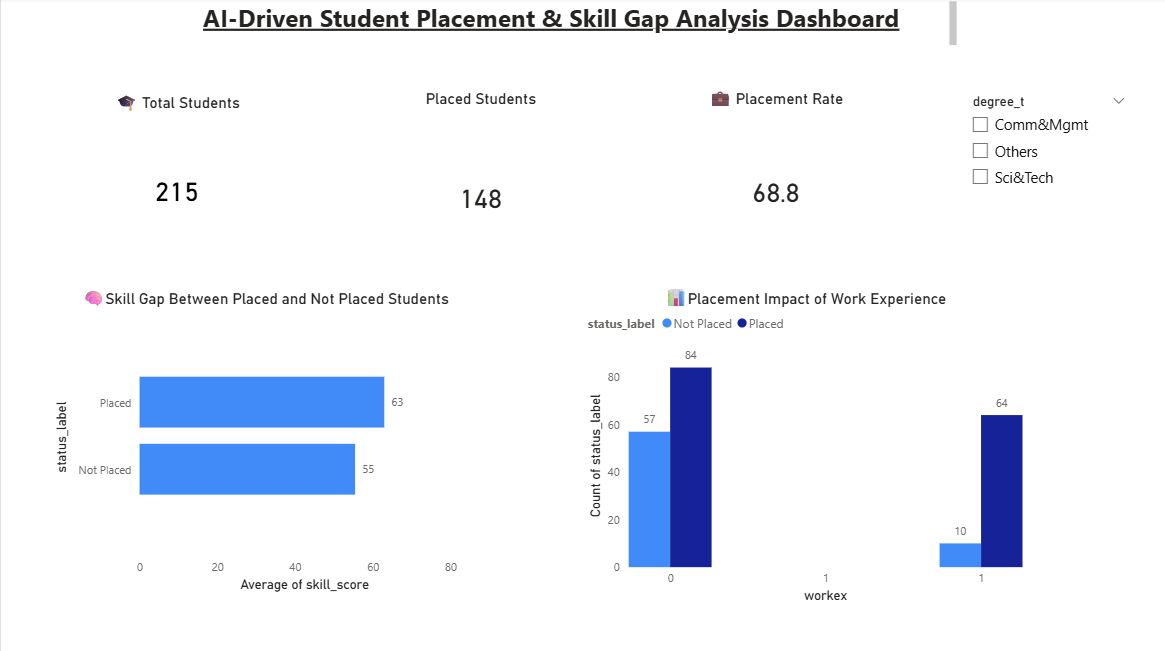

What the dashboard file says about the page in this screenshot:
{"tool":"powerbi","page":{"name":"Page 1","canvas":[1280,720],"ordinal":0},"visuals":[{"type":"card","title":"🎓 Total Students","fields":{"Values":["CountNonNull(student_placement_powerbi.status_label)"]},"box":[53.5,101.5,279.9,200.3],"z":0},{"type":"card","title":"Placed Students","fields":{"Values":["CountNonNull(student_placement_powerbi.status_label)"]},"box":[387,101.5,279.9,215.4],"z":1000},{"type":"card","title":"💼 Placement Rate","fields":{"Values":["student_placement_powerbi.Placement Rate (%)"]},"box":[710.8,97.4,279.9,209.9],"z":2000},{"type":"clusteredBarChart","title":"🧠Skill Gap Between Placed and Not Placed Students","fields":{"Category":["student_placement_powerbi.status_label"],"Y":["Avg(student_placement_powerbi.skill_score)"]},"box":[53.5,317,473.4,341.7],"z":3000},{"type":"clusteredColumnChart","title":"📊Placement Impact of Work Experience","fields":{"Category":["student_placement_powerbi.workex"],"Y":["CountNonNull(student_placement_powerbi.status_label)"],"Series":["student_placement_powerbi.status_label"]},"box":[639.5,317,487.1,352.7],"z":4000},{"type":"textbox","box":[161.9,0,891.9,60.4],"z":5000},{"type":"slicer","fields":{"Values":["student_placement_powerbi.degree_t"]},"box":[1053.9,101.5,192.1,127.6],"z":5001}]}

Visuals, with their boxes in screenshot pixels (x1, y1, x2, y2), scaled from the page's 1280x720 canvas onto the 1165x651 screenshot:
"🎓 Total Students" card: (x1=49, y1=92, x2=303, y2=273)
"Placed Students" card: (x1=352, y1=92, x2=607, y2=287)
"💼 Placement Rate" card: (x1=647, y1=88, x2=902, y2=278)
"🧠Skill Gap Between Placed and Not Placed Students" clusteredBarChart: (x1=49, y1=287, x2=480, y2=596)
"📊Placement Impact of Work Experience" clusteredColumnChart: (x1=582, y1=287, x2=1025, y2=606)
textbox: (x1=147, y1=0, x2=959, y2=55)
slicer - student_placement_powerbi.degree_t: (x1=959, y1=92, x2=1134, y2=207)
